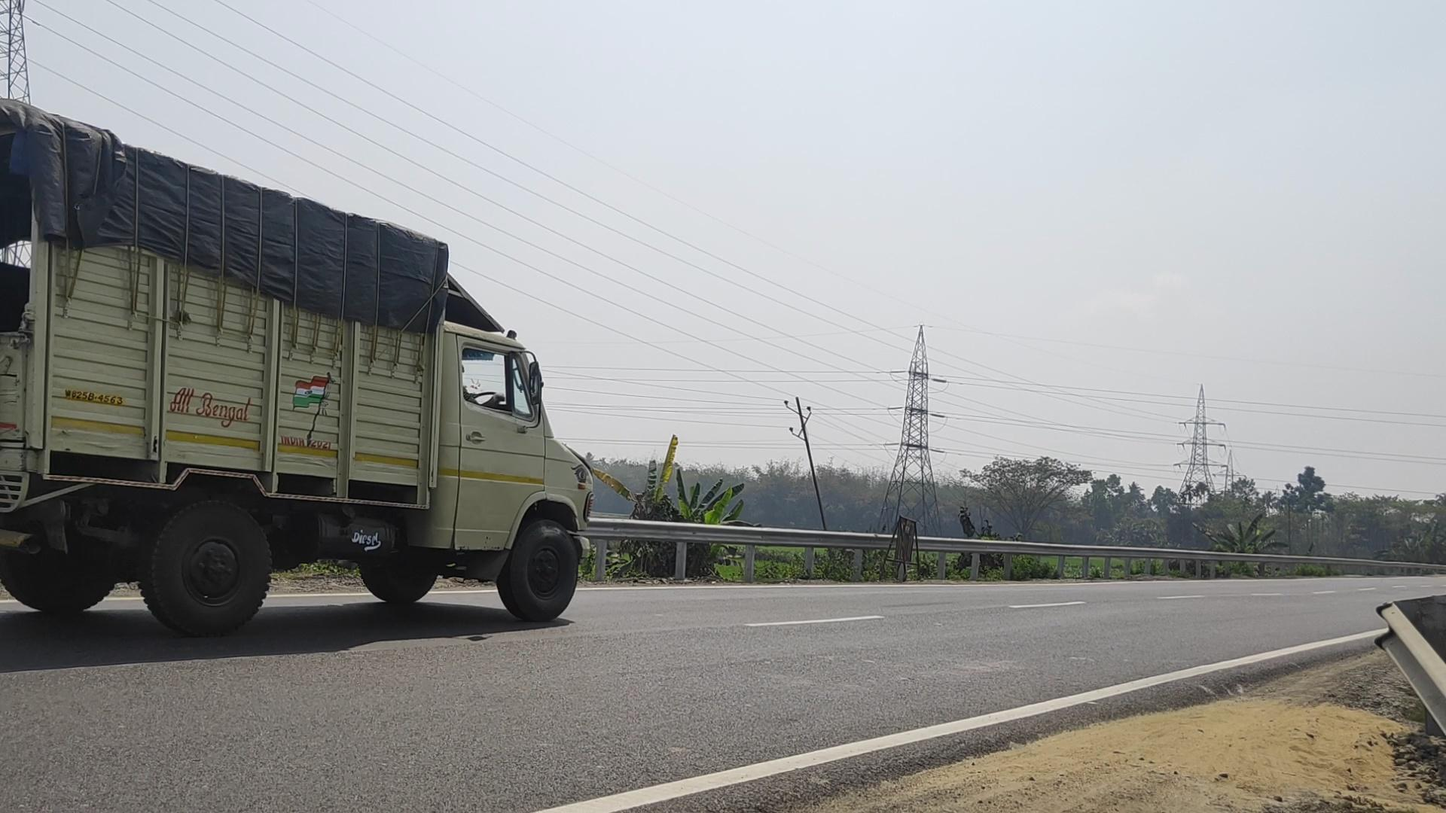truck: (1, 96, 594, 640)
